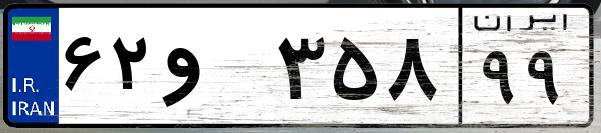2: (110, 28, 158, 98)
3: (270, 28, 330, 110)
5: (330, 28, 385, 110)
6: (57, 26, 110, 100)
8: (385, 28, 445, 110)
9: (475, 38, 525, 113), (525, 38, 570, 115)
و: (158, 20, 270, 120)
